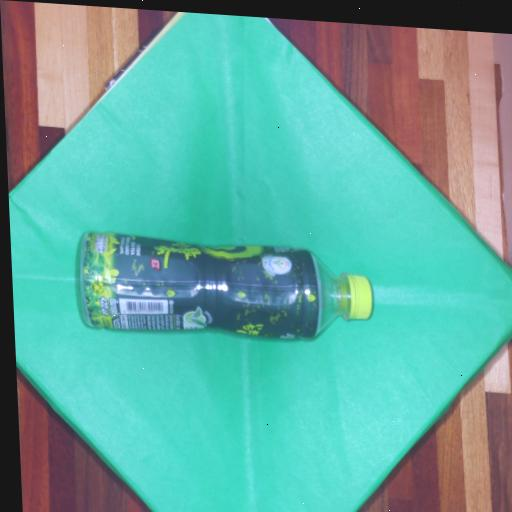bottle: (81, 233, 372, 338)
